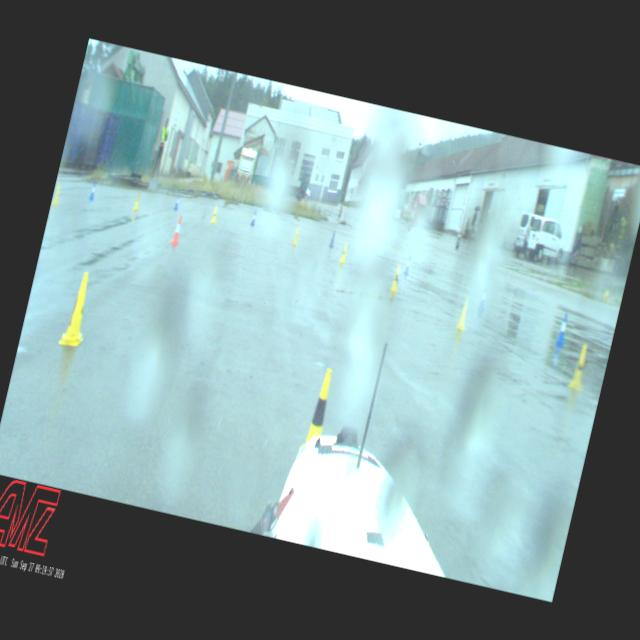blue_cone: (554, 310, 570, 346), (476, 284, 488, 311), (402, 254, 412, 275), (328, 228, 337, 248), (89, 181, 98, 200), (249, 209, 258, 226), (173, 193, 181, 210)
orange_cone: (169, 214, 184, 246)
yellow_cone: (57, 268, 98, 348), (304, 368, 336, 446), (568, 344, 589, 389), (456, 294, 472, 331), (389, 266, 402, 291), (50, 182, 61, 206), (338, 243, 347, 262), (291, 228, 300, 244), (132, 194, 140, 211), (210, 206, 218, 222)
